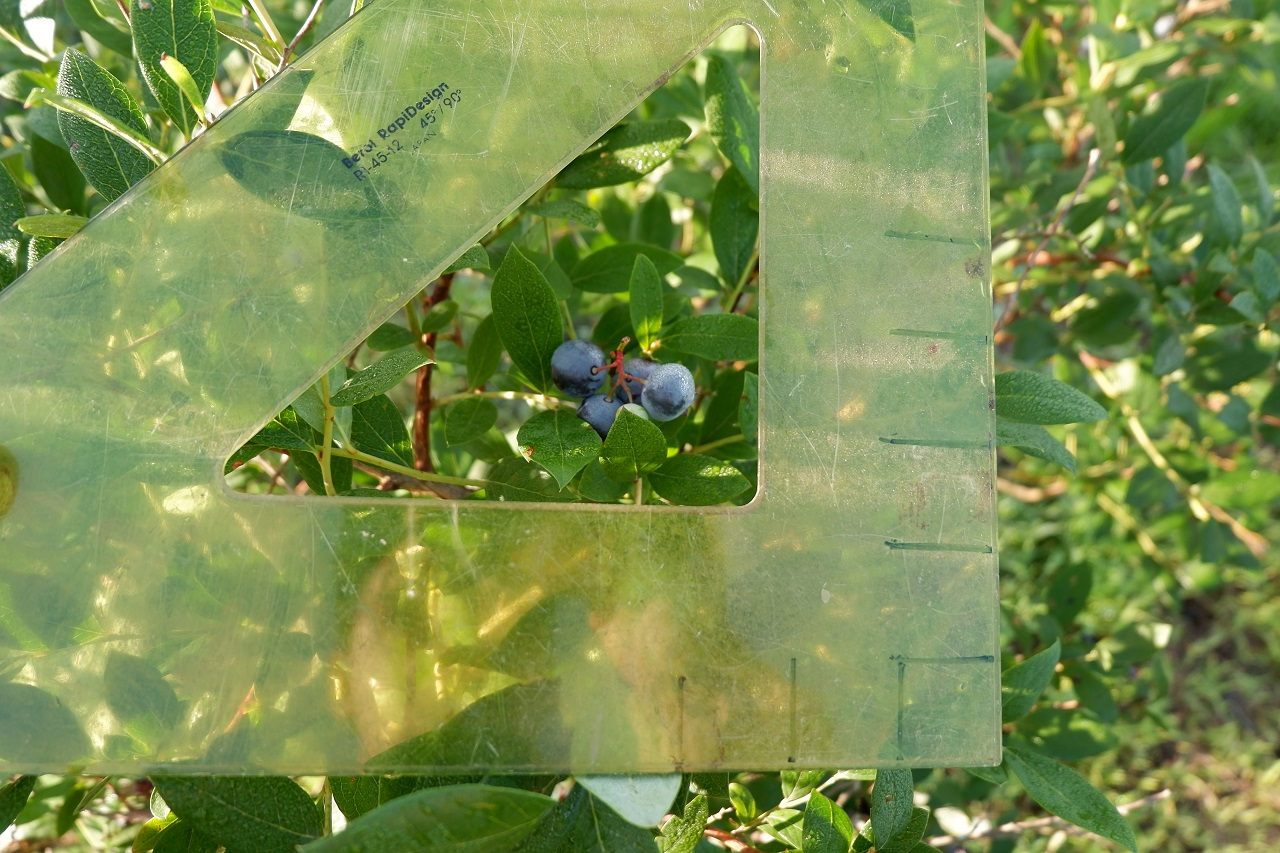Immature: (615, 403, 648, 420)
Mature: (550, 338, 608, 399), (641, 363, 695, 422), (613, 358, 664, 408), (576, 394, 625, 443)
